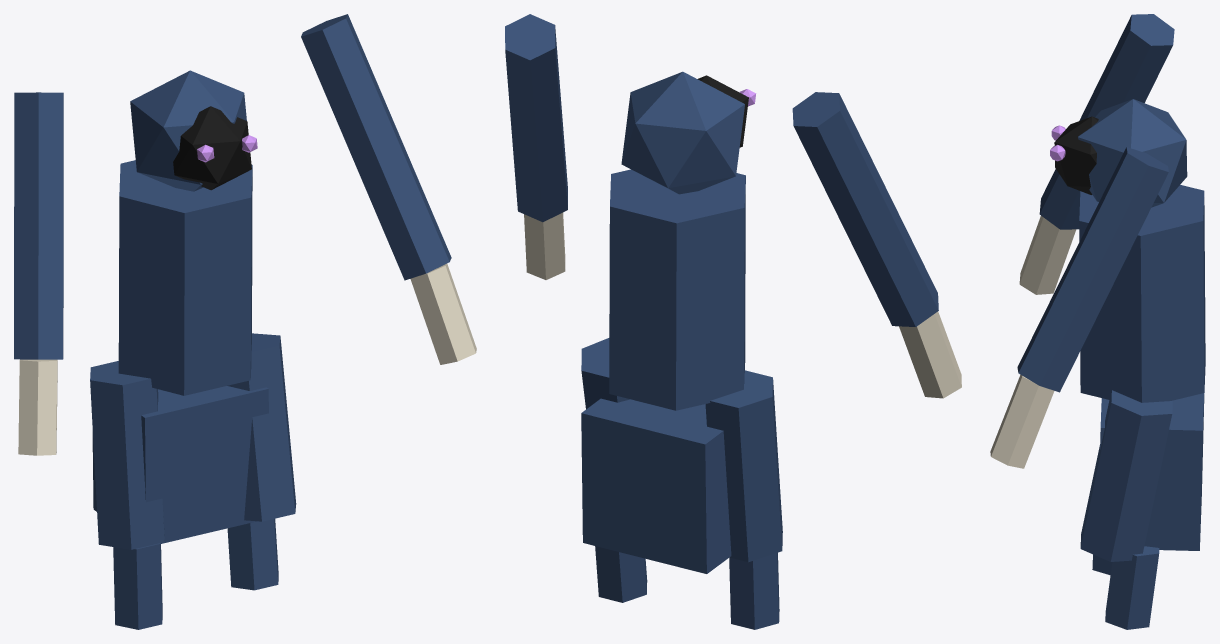
Rendered from npcpose_wraith_idle_09.glb.
3 views of the same model, side by side, from view 1: azimuth 30°, elevation 25°; view 2: azimuth 150°, elevation 25°; view 3: azimuth 270°, elevation 25° (orthographic). The views are drawn at different scales.
Parts seen in each view (by area): view 1: npcpose; view 2: npcpose; view 3: npcpose.
Part boxes in pixels (left/top/right/bottom): npcpose: left=14, top=14, right=476, bottom=629; npcpose: left=505, top=14, right=961, bottom=629; npcpose: left=990, top=14, right=1205, bottom=629.
Size of the model in its own units: 0.938 by 1.1 by 0.421.
